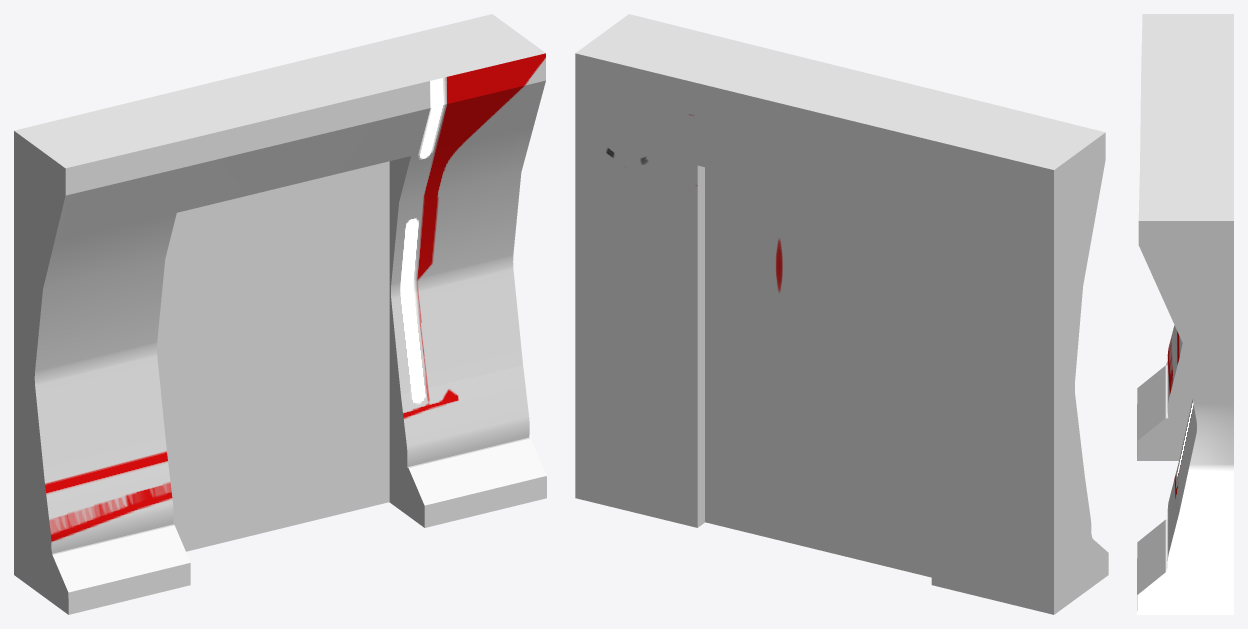
File: pack_hand_of_dominion_door.fbx
3 views of the same model, side by side, from view 1: azimuth 30°, elevation 25°; view 2: azimuth 150°, elevation 25°; view 3: azimuth 270°, elevation 25° (orthographic). The views are drawn at different scales.
Parts seen in each view (by area): view 1: DoorWall, Door; view 2: DoorWall, Door; view 3: DoorWall.
Part boxes in pixels (left/top/right/bottom): DoorWall: left=14, top=14, right=546, bottom=614; Door: left=157, top=161, right=389, bottom=551; DoorWall: left=575, top=14, right=1108, bottom=614; Door: left=705, top=167, right=931, bottom=577; DoorWall: left=1137, top=14, right=1233, bottom=614.
Bounding box in the file's own units: 515 × 457 × 102.
